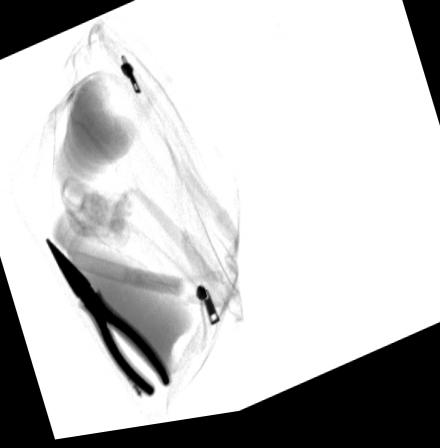Pliers: (43, 236, 172, 405)
